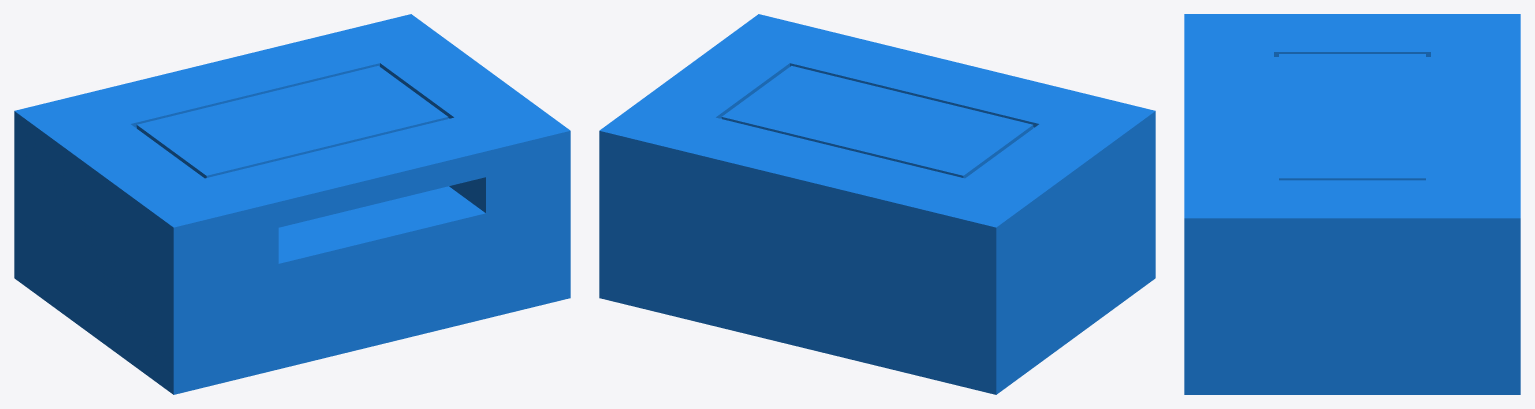
Rendered from original-13.obj.
3 renders of one model, left to right at view 1: azimuth 30°, elevation 25°; view 2: azimuth 150°, elevation 25°; view 3: azimuth 270°, elevation 25°, orthographic. The views are drawn at different scales.
Visible parts, largest first — view 1: Group39/mesh33/mesh33-geometry#mesh33-geometry; view 2: Group39/mesh33/mesh33-geometry#mesh33-geometry; view 3: Group39/mesh33/mesh33-geometry#mesh33-geometry.
Boxes of the visible parts, x1,y1,x2,y2 form: Group39/mesh33/mesh33-geometry#mesh33-geometry: [14, 14, 570, 394]; Group39/mesh33/mesh33-geometry#mesh33-geometry: [599, 14, 1155, 394]; Group39/mesh33/mesh33-geometry#mesh33-geometry: [1184, 14, 1520, 394].
Bounding box in the file's own units: 0.1061 × 0.0428 × 0.0738.
